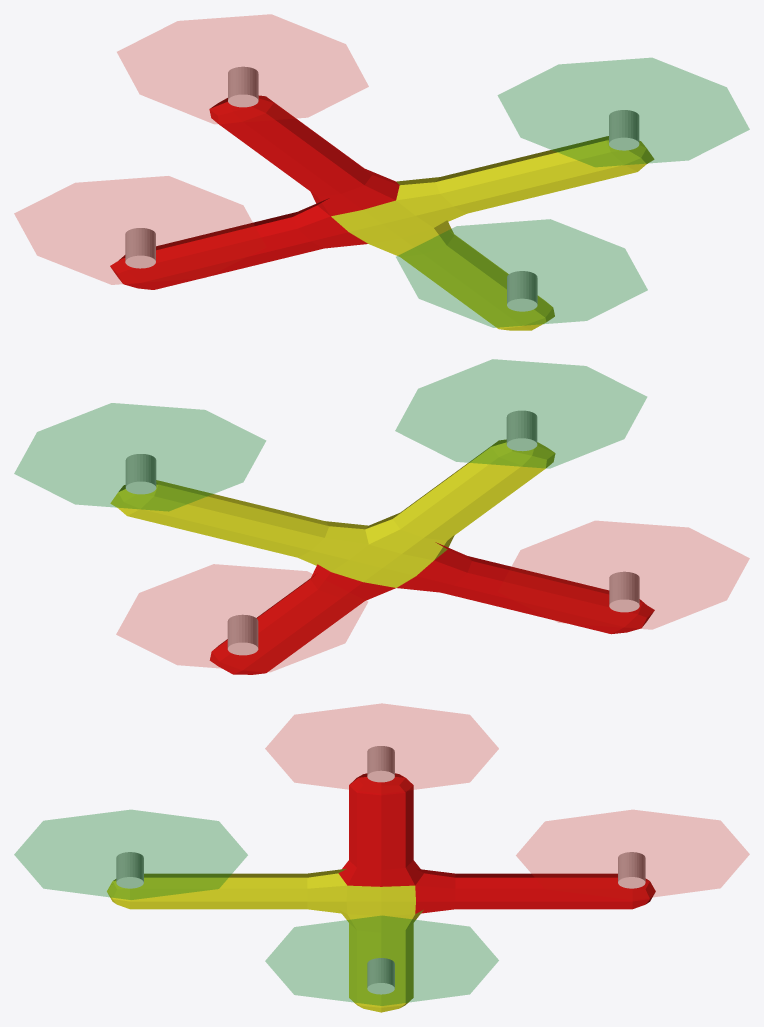
Rendered from quad.glb.
The picture shows the model from 3 angles, top to bottom: view 1: azimuth 30°, elevation 25°; view 2: azimuth 150°, elevation 25°; view 3: azimuth 270°, elevation 25°; orthographic projection. The views are drawn at different scales.
Visible parts, largest first — view 1: Cube, propellertexture.005, propellertexture.004, propellertexture.006, propellertexture.007, Cylinder.003, Cylinder.001, Cylinder.002, Cylinder; view 2: Cube, propellertexture.006, propellertexture.007, propellertexture.005, propellertexture.004, Cylinder.003, Cylinder, Cylinder.002, Cylinder.001; view 3: Cube, propellertexture.005, propellertexture.006, propellertexture.004, propellertexture.007, Cylinder.003, Cylinder.001, Cylinder, Cylinder.002.
Boxes of the visible parts, left/top/right/bottom form: Cube: left=110, top=95, right=654, bottom=330; propellertexture.005: left=498, top=58, right=749, bottom=166; propellertexture.004: left=117, top=14, right=368, bottom=123; propellertexture.006: left=396, top=219, right=647, bottom=327; propellertexture.007: left=14, top=176, right=265, bottom=284; Cylinder.003: left=228, top=66, right=258, bottom=107; Cylinder.001: left=125, top=228, right=155, bottom=268; Cylinder.002: left=507, top=271, right=537, bottom=311; Cylinder: left=609, top=110, right=639, bottom=150; Cube: left=110, top=439, right=654, bottom=674; propellertexture.006: left=395, top=359, right=646, bottom=468; propellertexture.007: left=498, top=521, right=749, bottom=629; propellertexture.005: left=14, top=403, right=265, bottom=511; propellertexture.004: left=116, top=564, right=367, bottom=671; Cylinder.003: left=227, top=614, right=258, bottom=655; Cylinder: left=125, top=454, right=156, bottom=494; Cylinder.002: left=506, top=410, right=537, bottom=450; Cylinder.001: left=609, top=571, right=639, bottom=612; Cube: left=107, top=773, right=655, bottom=1012; propellertexture.005: left=265, top=915, right=498, bottom=1005; propellertexture.006: left=14, top=810, right=247, bottom=899; propellertexture.004: left=516, top=810, right=749, bottom=899; propellertexture.007: left=265, top=703, right=498, bottom=793; Cylinder.003: left=618, top=852, right=645, bottom=888; Cylinder.001: left=367, top=746, right=394, bottom=782; Cylinder: left=367, top=958, right=394, bottom=994; Cylinder.002: left=116, top=852, right=143, bottom=888.
Size of the model in its own units: 5.22 by 0.3822 by 5.37.
